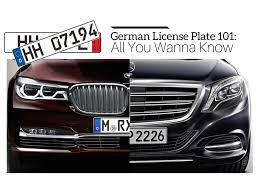0: (50, 35, 63, 52)
1: (67, 29, 82, 46)
2: (135, 130, 143, 142), (143, 130, 150, 142), (151, 130, 157, 142)
4: (85, 23, 99, 39)
6: (158, 130, 164, 142)
7: (58, 32, 72, 49)
9: (77, 26, 90, 42)
H: (21, 46, 36, 62), (31, 42, 45, 59), (17, 34, 28, 51), (28, 34, 39, 50)
M: (102, 119, 109, 131)
R: (118, 119, 125, 131)
X: (126, 120, 130, 131)
